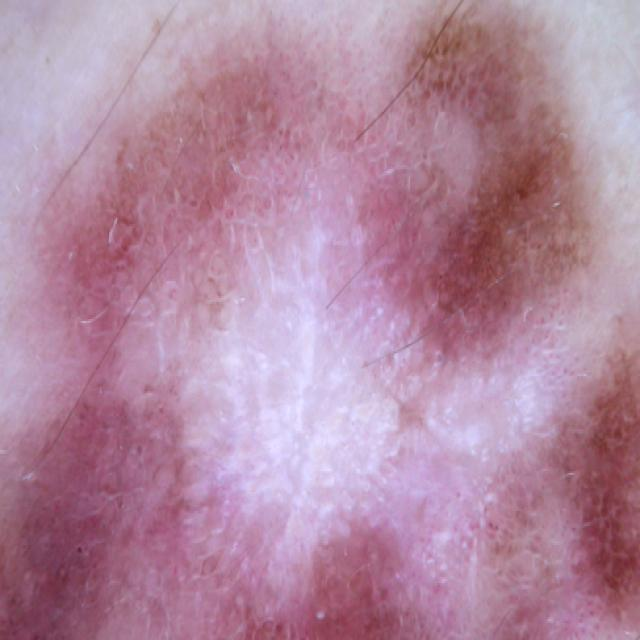Dermatofibroma: (0, 19, 640, 640)
